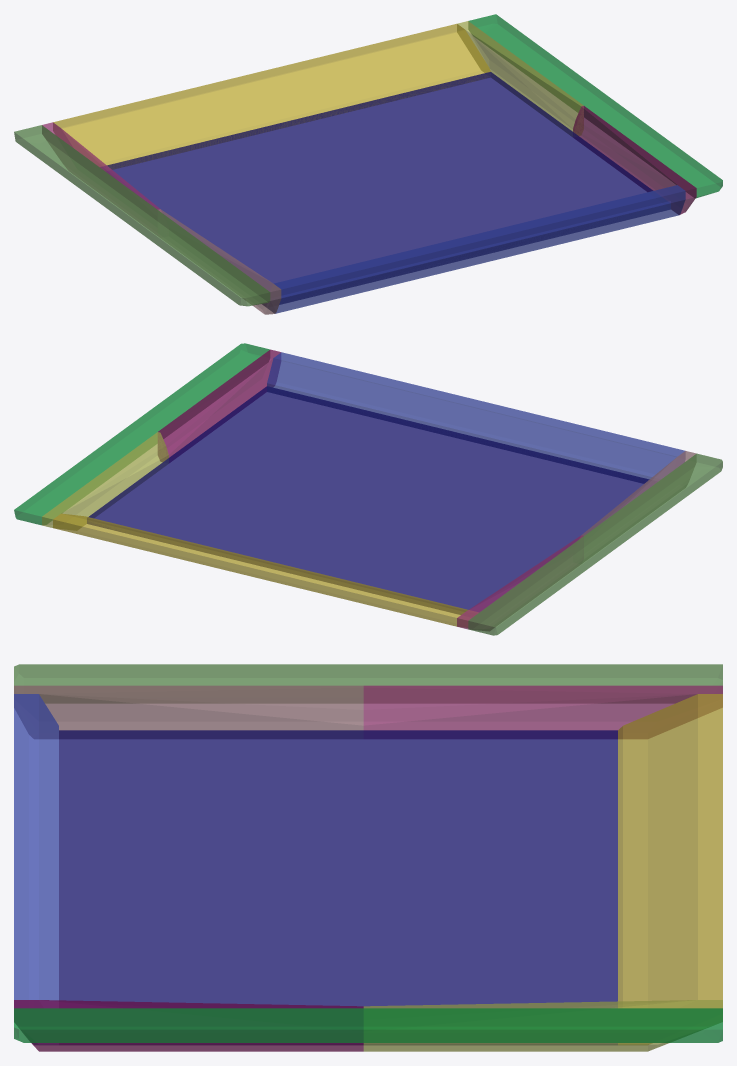
The model's file is tray.obj.
3 renders of one model, top to bottom at view 1: azimuth 30°, elevation 25°; view 2: azimuth 150°, elevation 25°; view 3: azimuth 270°, elevation 25°, orthographic. The views are drawn at different scales.
Visible parts, largest first — view 1: Shape_IndexedFaceSet.007_Shape_IndexedFaceSet.433, Shape_IndexedFaceSet.008_Shape_IndexedFaceSet.434, Shape_IndexedFaceSet.006_Shape_IndexedFaceSet.432, Shape_IndexedFaceSet.001_Shape_IndexedFaceSet.427, Shape_IndexedFaceSet_Shape_IndexedFaceSet.426, Shape_IndexedFaceSet.005_Shape_IndexedFaceSet.431, Shape_IndexedFaceSet.003_Shape_IndexedFaceSet.429, Shape_IndexedFaceSet.002_Shape_IndexedFaceSet.428, Shape_IndexedFaceSet.004_Shape_IndexedFaceSet.430; view 2: Shape_IndexedFaceSet.007_Shape_IndexedFaceSet.433, Shape_IndexedFaceSet.006_Shape_IndexedFaceSet.432, Shape_IndexedFaceSet.001_Shape_IndexedFaceSet.427, Shape_IndexedFaceSet_Shape_IndexedFaceSet.426, Shape_IndexedFaceSet.008_Shape_IndexedFaceSet.434, Shape_IndexedFaceSet.003_Shape_IndexedFaceSet.429, Shape_IndexedFaceSet.005_Shape_IndexedFaceSet.431, Shape_IndexedFaceSet.004_Shape_IndexedFaceSet.430, Shape_IndexedFaceSet.002_Shape_IndexedFaceSet.428; view 3: Shape_IndexedFaceSet.007_Shape_IndexedFaceSet.433, Shape_IndexedFaceSet.008_Shape_IndexedFaceSet.434, Shape_IndexedFaceSet_Shape_IndexedFaceSet.426, Shape_IndexedFaceSet.001_Shape_IndexedFaceSet.427, Shape_IndexedFaceSet.002_Shape_IndexedFaceSet.428, Shape_IndexedFaceSet.004_Shape_IndexedFaceSet.430, Shape_IndexedFaceSet.003_Shape_IndexedFaceSet.429, Shape_IndexedFaceSet.005_Shape_IndexedFaceSet.431, Shape_IndexedFaceSet.006_Shape_IndexedFaceSet.432.
Part boxes in pixels (x1,y1,x2,y2): Shape_IndexedFaceSet.007_Shape_IndexedFaceSet.433: (106,72,670,306); Shape_IndexedFaceSet.008_Shape_IndexedFaceSet.434: (53,23,490,169); Shape_IndexedFaceSet.006_Shape_IndexedFaceSet.432: (267,185,685,313); Shape_IndexedFaceSet.001_Shape_IndexedFaceSet.427: (468,14,722,198); Shape_IndexedFaceSet_Shape_IndexedFaceSet.426: (14,125,270,306); Shape_IndexedFaceSet.005_Shape_IndexedFaceSet.431: (457,21,583,136); Shape_IndexedFaceSet.003_Shape_IndexedFaceSet.429: (573,106,696,214); Shape_IndexedFaceSet.002_Shape_IndexedFaceSet.428: (158,209,281,314); Shape_IndexedFaceSet.004_Shape_IndexedFaceSet.430: (42,122,161,235); Shape_IndexedFaceSet.007_Shape_IndexedFaceSet.433: (87,386,655,614); Shape_IndexedFaceSet.006_Shape_IndexedFaceSet.432: (267,352,685,483); Shape_IndexedFaceSet.001_Shape_IndexedFaceSet.427: (14,343,269,525); Shape_IndexedFaceSet_Shape_IndexedFaceSet.426: (468,453,722,635); Shape_IndexedFaceSet.008_Shape_IndexedFaceSet.434: (53,513,477,627); Shape_IndexedFaceSet.003_Shape_IndexedFaceSet.429: (158,349,280,462); Shape_IndexedFaceSet.005_Shape_IndexedFaceSet.431: (42,432,168,530); Shape_IndexedFaceSet.004_Shape_IndexedFaceSet.430: (457,535,583,630); Shape_IndexedFaceSet.002_Shape_IndexedFaceSet.428: (580,451,696,562); Shape_IndexedFaceSet.007_Shape_IndexedFaceSet.433: (59,730,617,1044); Shape_IndexedFaceSet.008_Shape_IndexedFaceSet.434: (618,694,722,1044); Shape_IndexedFaceSet_Shape_IndexedFaceSet.426: (14,664,722,702); Shape_IndexedFaceSet.001_Shape_IndexedFaceSet.427: (14,1008,722,1042); Shape_IndexedFaceSet.002_Shape_IndexedFaceSet.428: (14,685,363,738); Shape_IndexedFaceSet.004_Shape_IndexedFaceSet.430: (363,685,722,738); Shape_IndexedFaceSet.003_Shape_IndexedFaceSet.429: (14,1000,363,1051); Shape_IndexedFaceSet.005_Shape_IndexedFaceSet.431: (363,1000,722,1051); Shape_IndexedFaceSet.006_Shape_IndexedFaceSet.432: (14,694,58,1044).
Bounding box in the file's own units: 0.4476 × 0.0259 × 0.3674.
